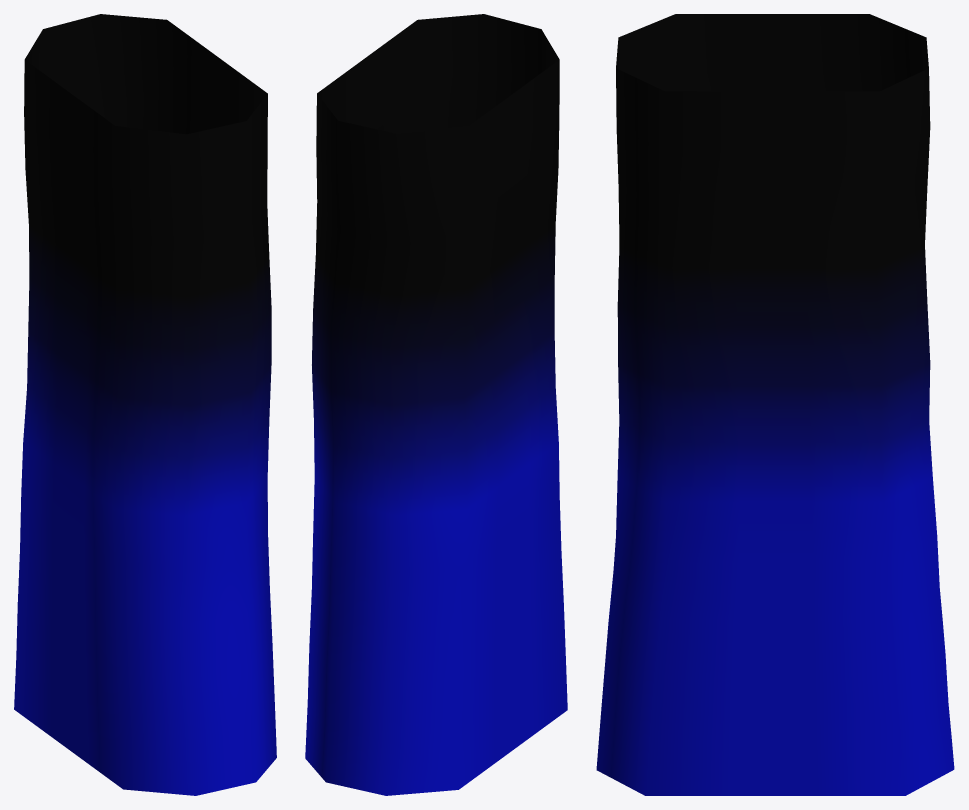
Rendered from TFD_Waterfall_01A_Base.fbx.
3 views of the same model, side by side, from view 1: azimuth 30°, elevation 25°; view 2: azimuth 150°, elevation 25°; view 3: azimuth 270°, elevation 25° (orthographic). The views are drawn at different scales.
Visible parts, largest first — view 1: TFD_Waterfall_01A_Base; view 2: TFD_Waterfall_01A_Base; view 3: TFD_Waterfall_01A_Base.
Part boxes in pixels (x1=…): TFD_Waterfall_01A_Base: x1=14, y1=14, x2=276, y2=795; TFD_Waterfall_01A_Base: x1=305, y1=14, x2=567, y2=795; TFD_Waterfall_01A_Base: x1=596, y1=14, x2=954, y2=795.
Bounding box in the file's own units: 1.45 × 6 × 2.76.
